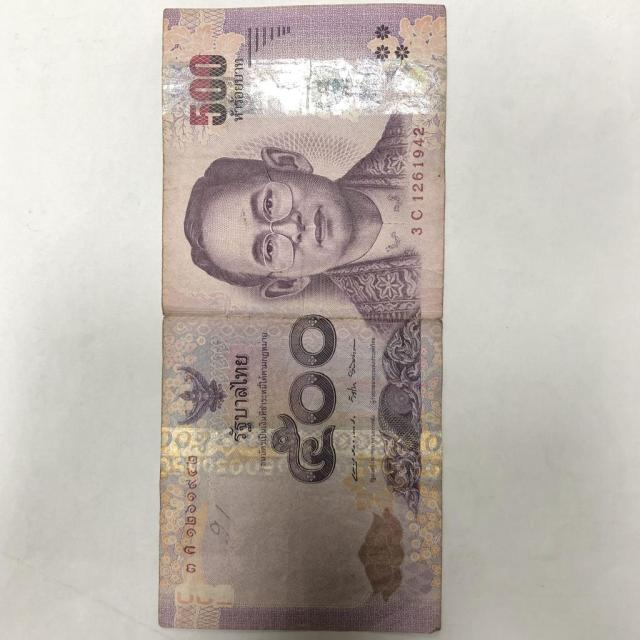THAI500: (153, 4, 449, 638)
